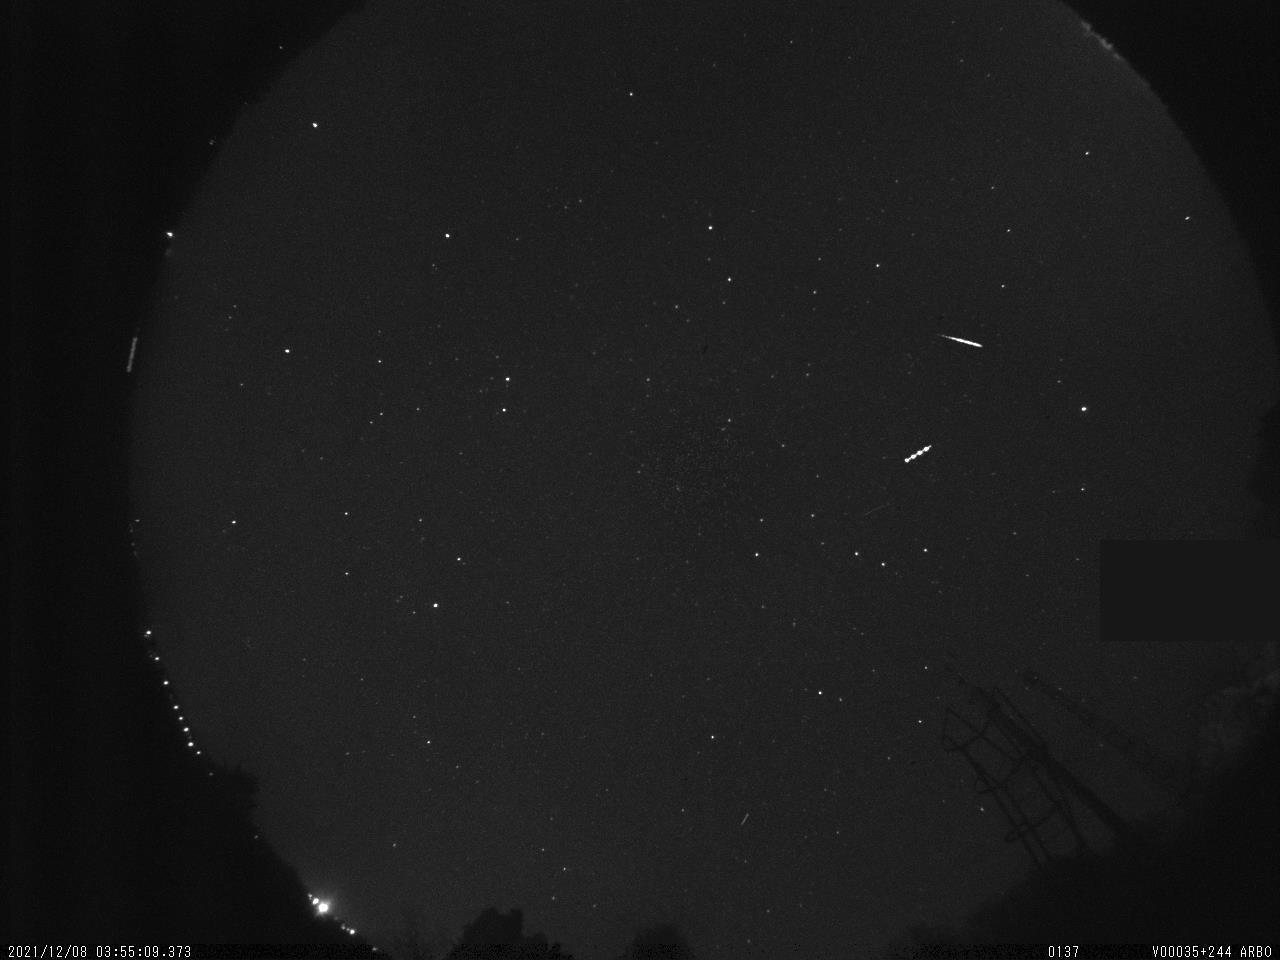meteor: (930, 319, 994, 360)
satelite: (896, 435, 938, 471)
